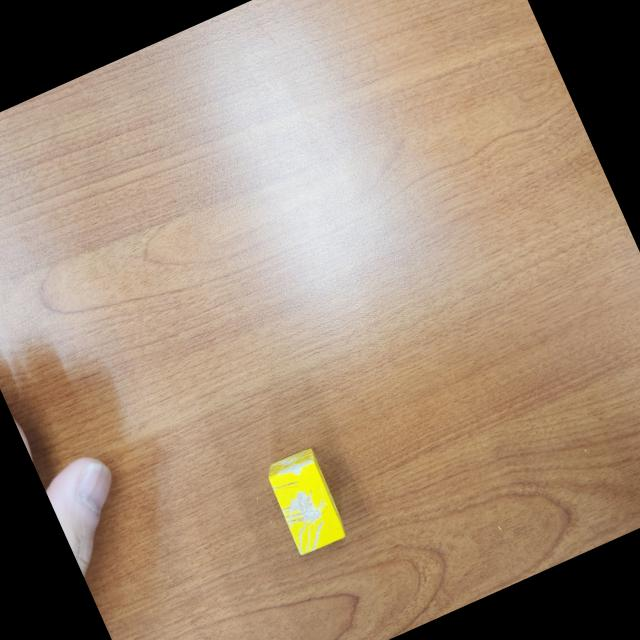broken: (262, 447, 350, 558)
